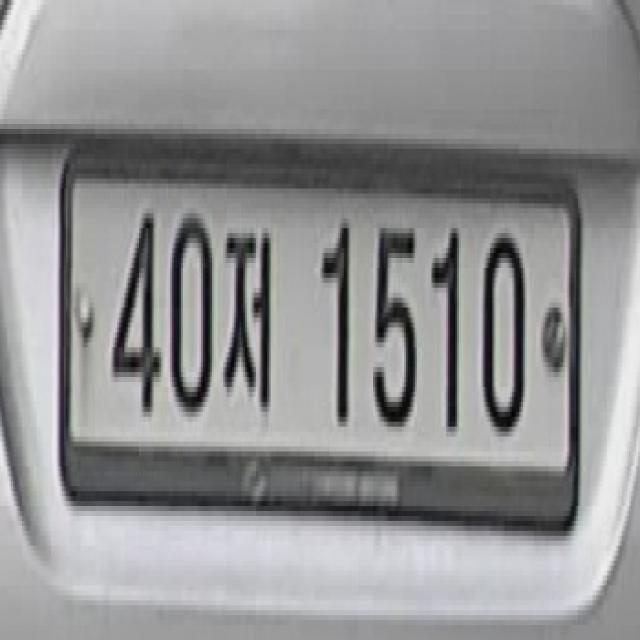0: (479, 228, 529, 442), (168, 208, 216, 422)
1: (313, 218, 353, 432), (428, 223, 464, 437)
4: (111, 208, 161, 417)
5: (370, 223, 420, 437)
jeo: (221, 223, 276, 412)
license_plate: (55, 154, 578, 486)
